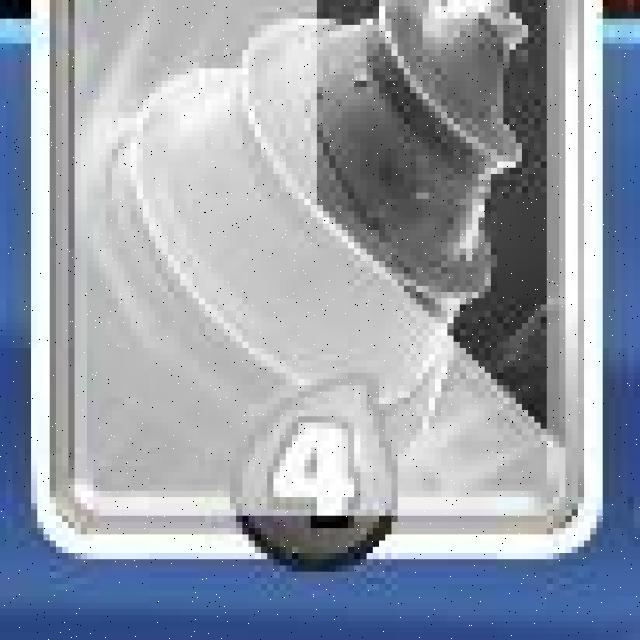Goblin_Drill: (28, 0, 609, 570)
